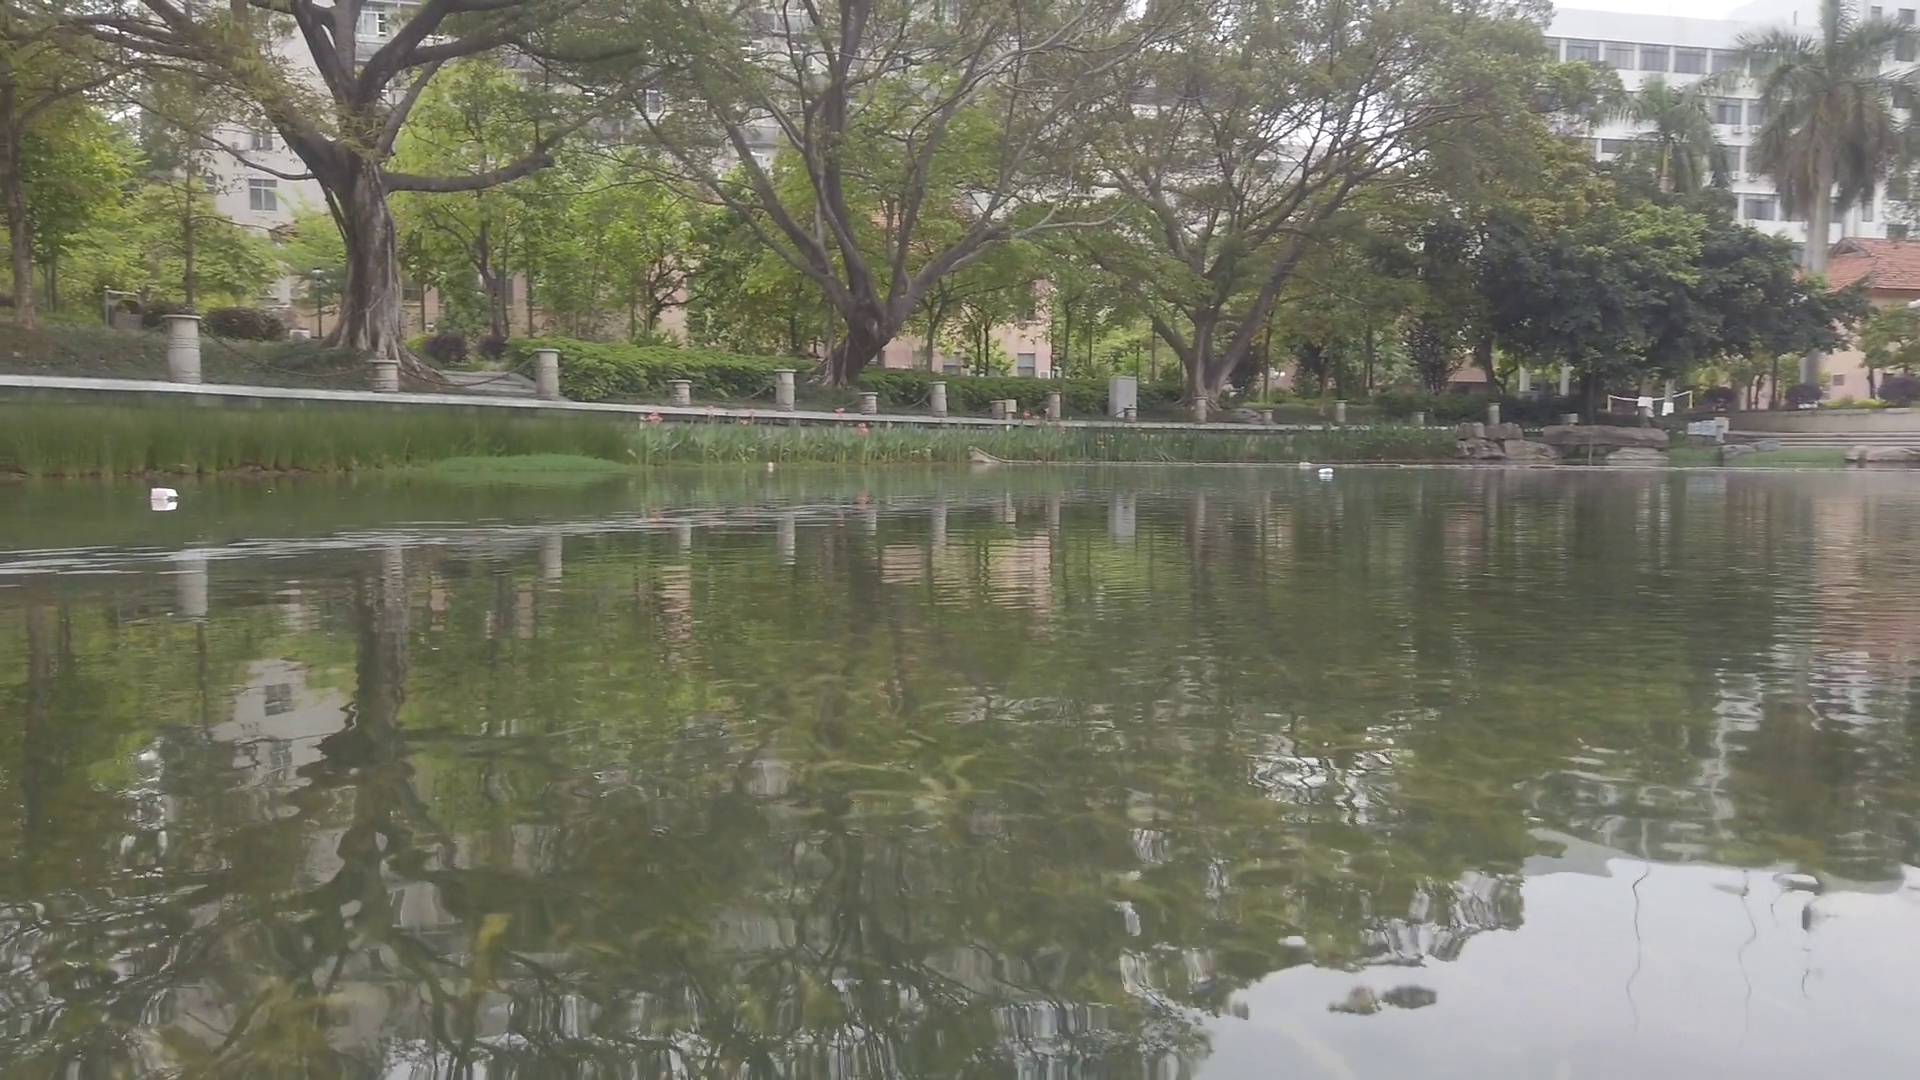bottle: (765, 463, 779, 476), (1320, 467, 1335, 473), (1299, 462, 1309, 468)
carton: (150, 487, 179, 502)
